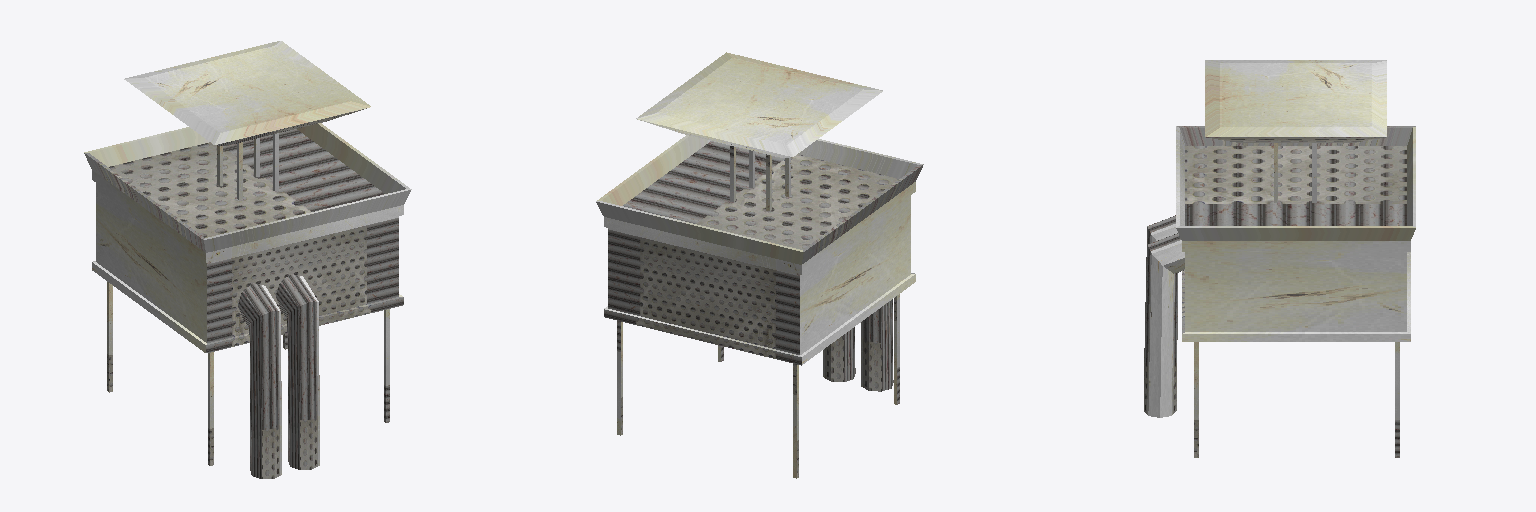
The picture shows the model from 3 angles: view 1: azimuth 30°, elevation 25°; view 2: azimuth 150°, elevation 25°; view 3: azimuth 270°, elevation 25°; orthographic projection.
Parts seen in each view (by area): view 1: airExhaust_2; view 2: airExhaust_2; view 3: airExhaust_2.
Part boxes in pixels (bbox=[...]): airExhaust_2: bbox=[84, 41, 411, 478]; airExhaust_2: bbox=[596, 52, 923, 478]; airExhaust_2: bbox=[1144, 60, 1415, 457].
Bounding box in the file's own units: 0.7334 × 1.08 × 0.8331.
Materials: 1 (1 with a texture image).